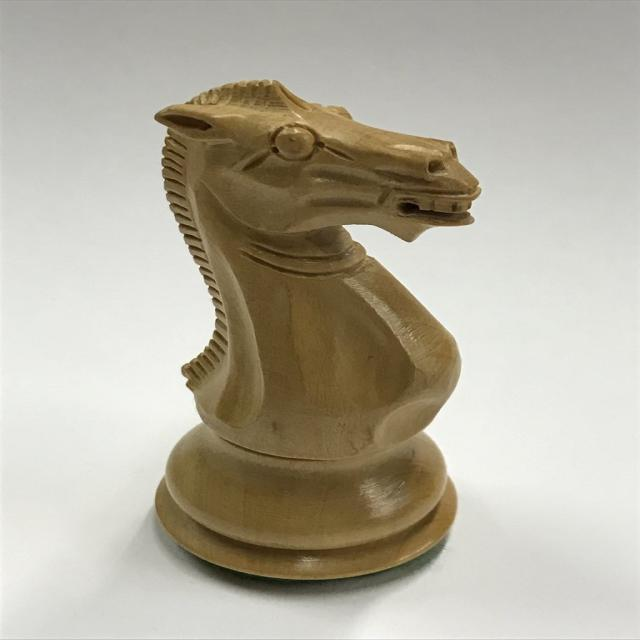white-knight: (152, 76, 483, 586)
